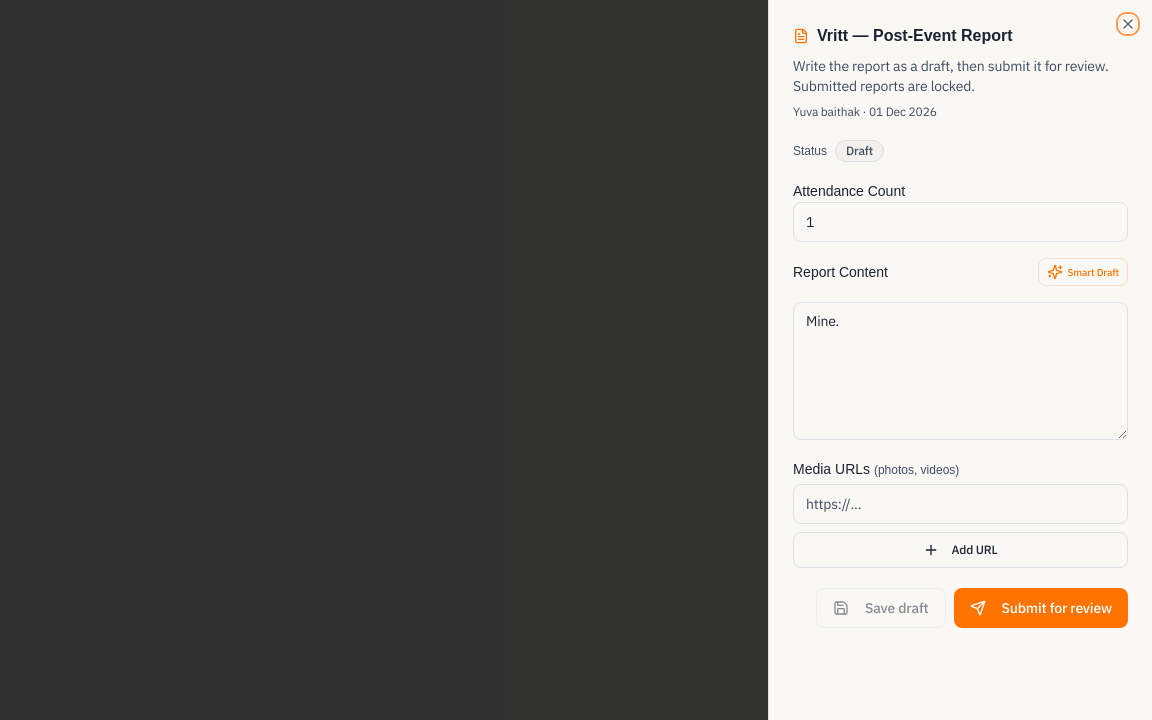
Scenario: when a request fails › shows the server's explanation for a refusal
What coordinates should you click on to do the following:
click the button "Submit for review"
I would click on:
 (1041, 608)
Its box is [954,588,1128,628].
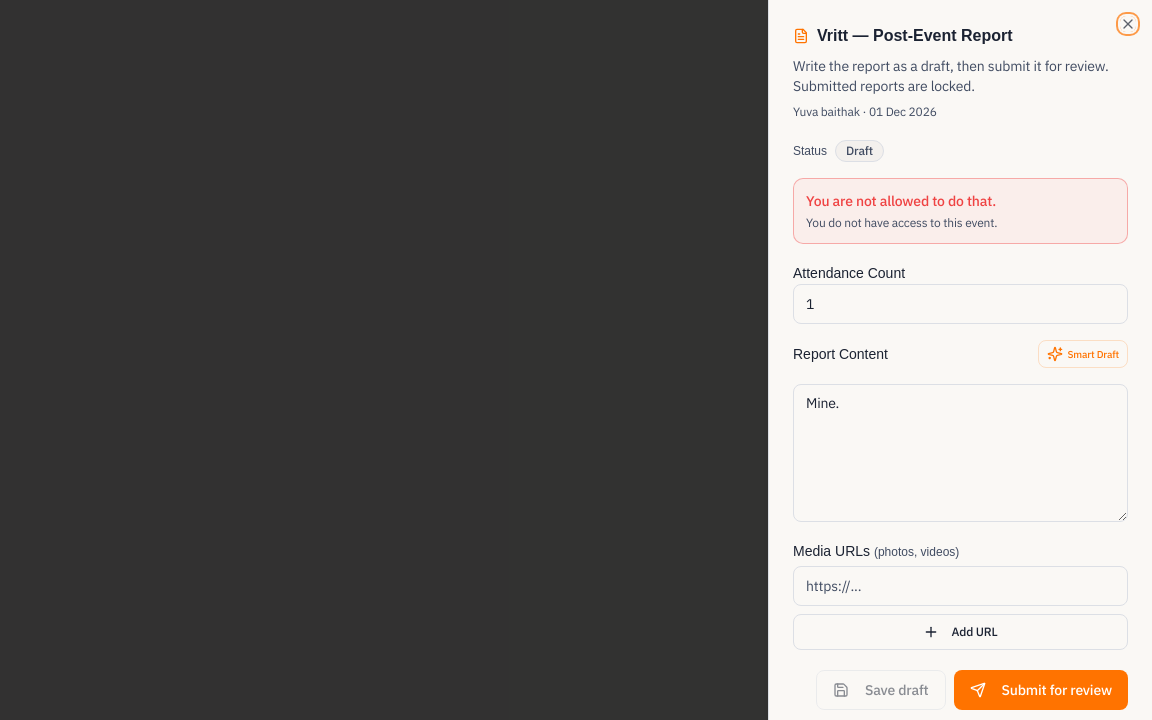
Now the message with test id "vritt-error" shows "You are not allowed to do that.", box [806,192,996,210]
Now the message with test id "vritt-error" shows "You do not have access to this event.", box [806,215,997,230]
